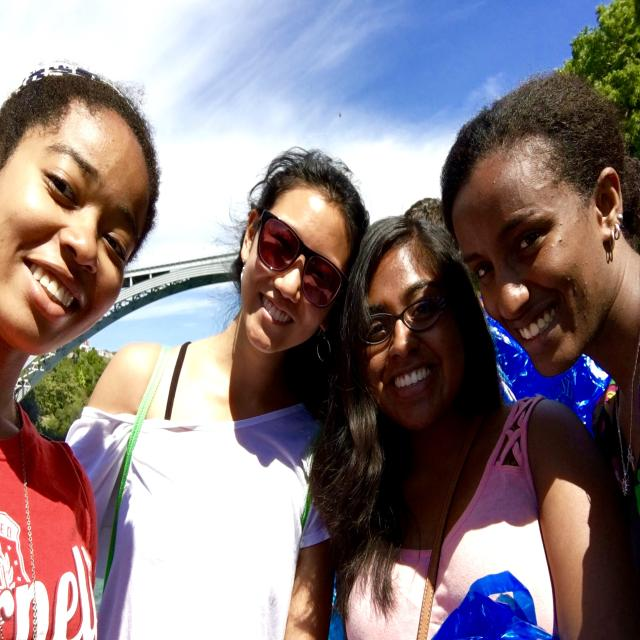body: (58, 144, 378, 640), (314, 188, 617, 640), (439, 70, 639, 640), (0, 60, 164, 640)
